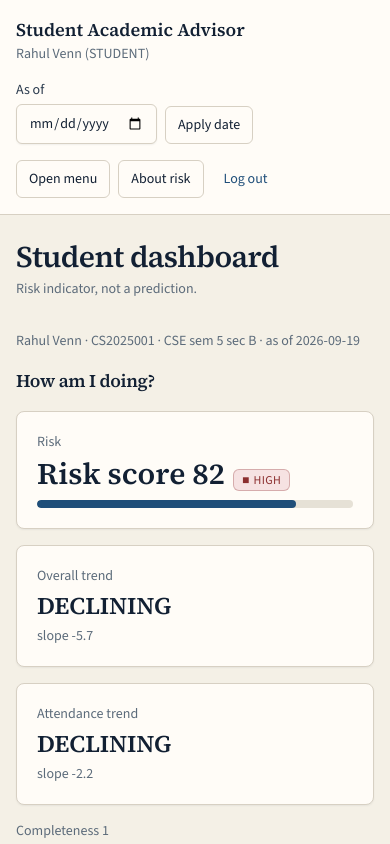
Layout polish › exposes a skip link, main landmark, and mobile menu
Check: the heading "Student dashboard" is shown, box [16, 236, 279, 277]
Check: the text "Risk indicator, not a prediction." is shown, box [16, 279, 197, 298]
Click the button "Open menu".
click(63, 179)  # box [16, 160, 110, 198]
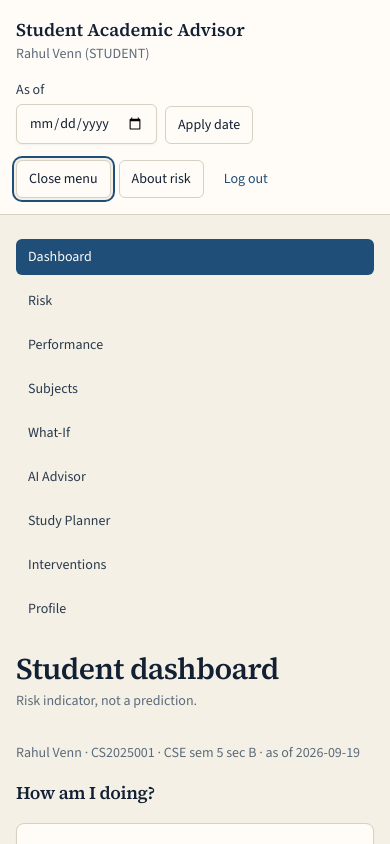
Check: the navigation bar named "Main" is shown, box [16, 239, 374, 627]
Press Escape
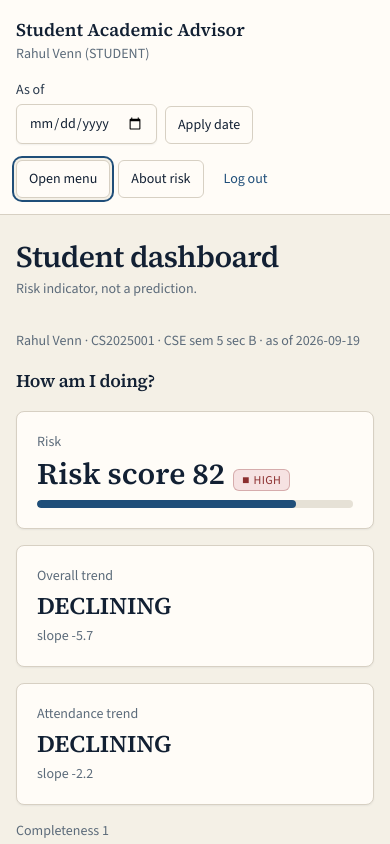
Check: the button "Open menu" is collapsed, box [16, 160, 110, 198]
